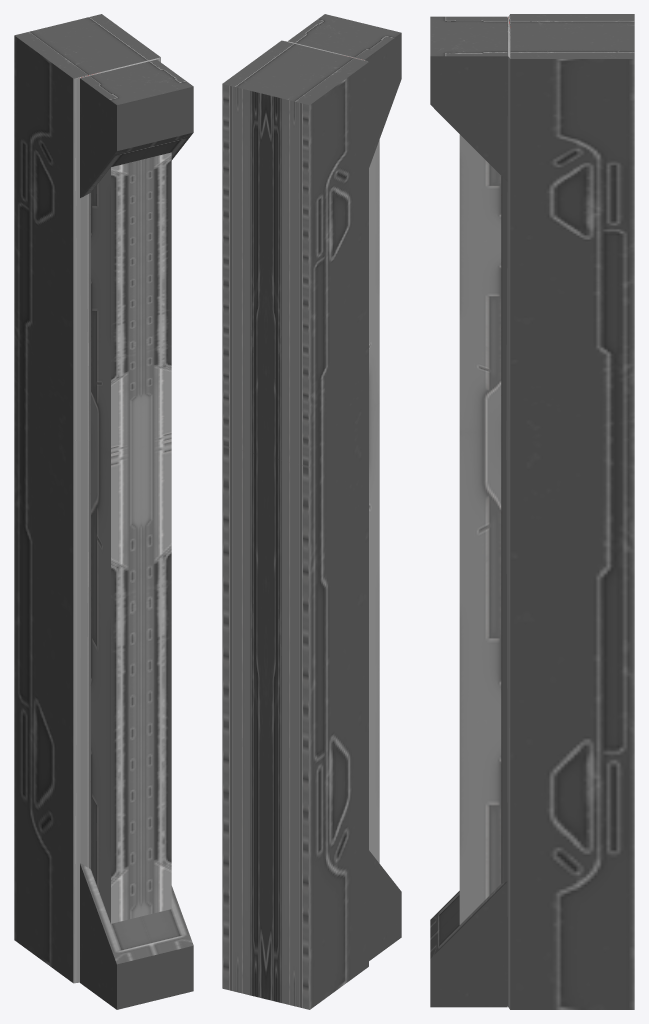
File: town-column-4y0bMjER.glb
3 renders of one model, left to right at view 1: azimuth 30°, elevation 25°; view 2: azimuth 150°, elevation 25°; view 3: azimuth 270°, elevation 25°, orthographic. The views are drawn at different scales.
Visible parts, largest first — view 1: Column_Simple; view 2: Column_Simple; view 3: Column_Simple.
Part boxes in pixels (x1=…): Column_Simple: x1=14, y1=14, x2=193, y2=1009; Column_Simple: x1=222, y1=14, x2=401, y2=1009; Column_Simple: x1=430, y1=14, x2=634, y2=1009.
Size of the model in its own units: 0.5066 by 5 by 0.9748.
2 materials, 2 textured.
